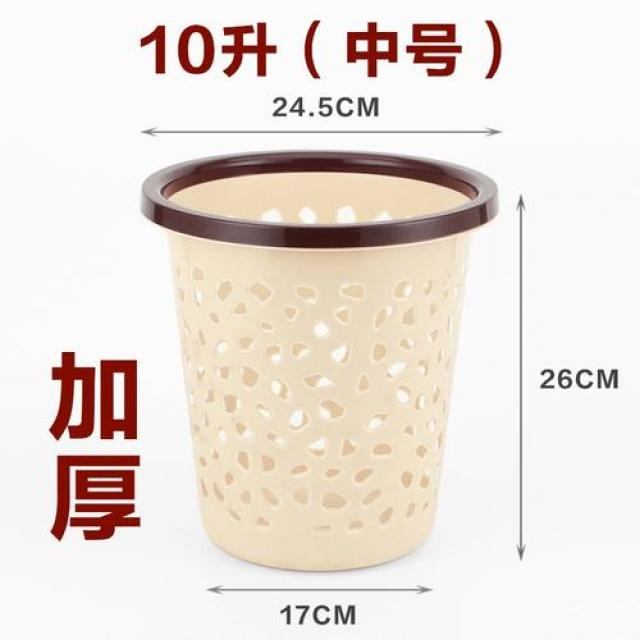dustbin: (135, 145, 505, 576)
